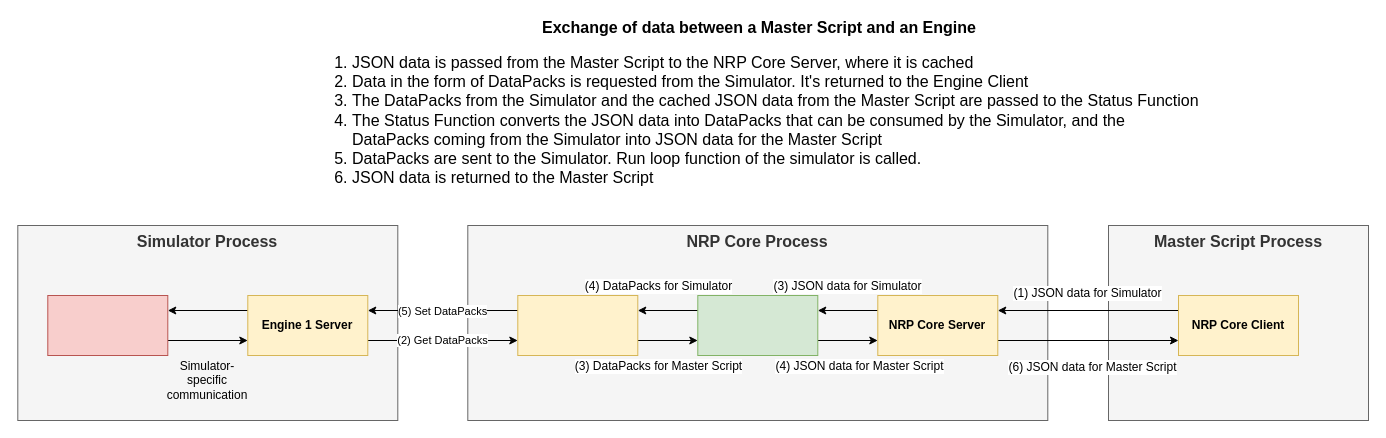
This 1386x438 diagram has some shape labels left out. Here are the shapes that lost their labels. From the top down, the centre of each, then its label:
pixel 107 325: Simulator
pixel 577 325: Engine 1 Client
pixel 757 325: Status Function
